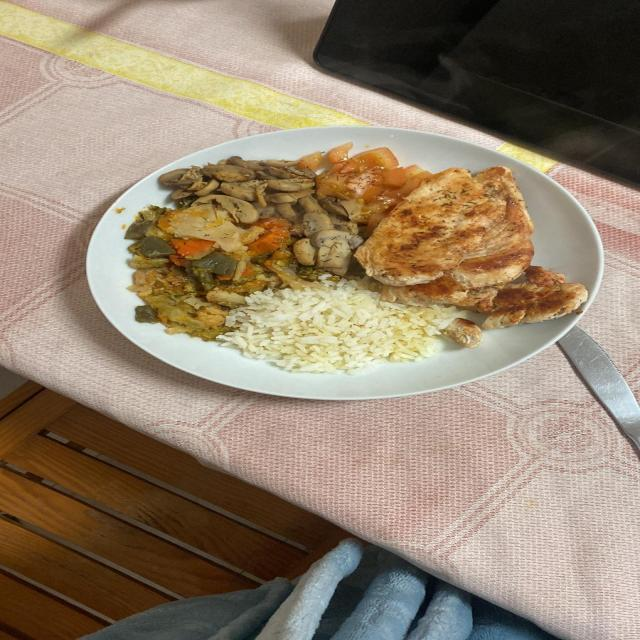chicken steak: (354, 168, 587, 348)
mushrooms: (159, 156, 362, 279)
plate: (85, 126, 604, 401)
rice: (220, 281, 453, 374)
tomato: (295, 143, 434, 234)
vegetables: (125, 203, 309, 340)
